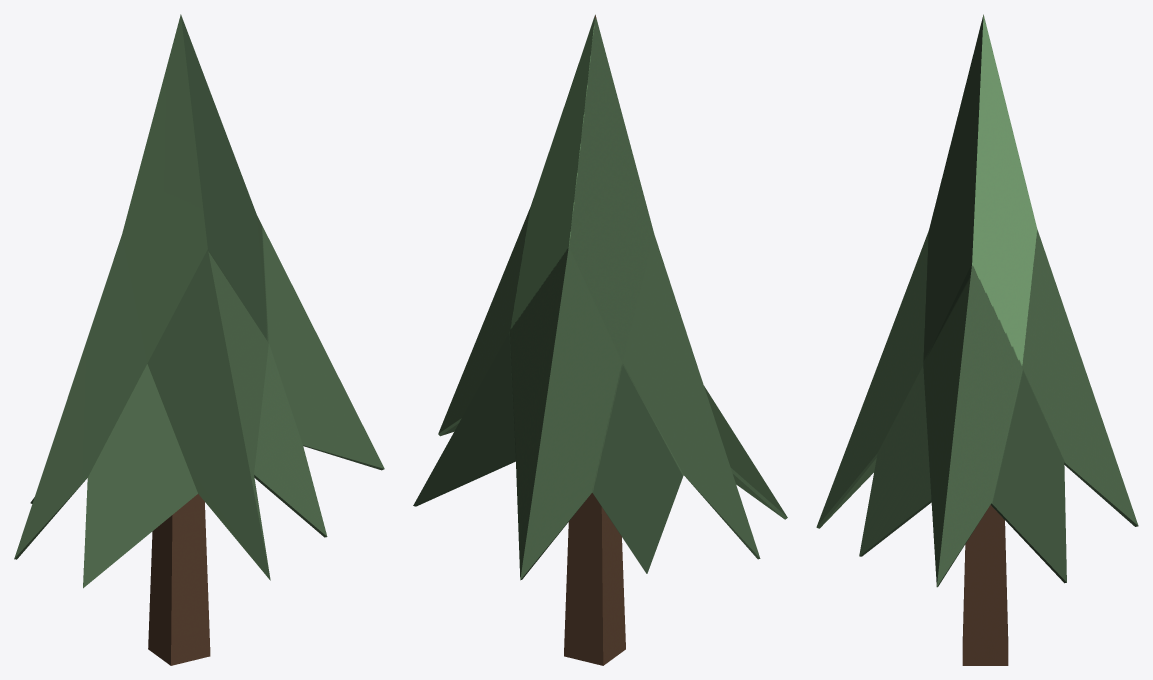
Rendered from treeModel.fbx.
The picture shows the model from 3 angles, left to right: view 1: azimuth 30°, elevation 25°; view 2: azimuth 150°, elevation 25°; view 3: azimuth 270°, elevation 25°; orthographic projection.
Parts seen in each view (by area): view 1: leaves, trunk; view 2: leaves, trunk; view 3: leaves, trunk.
Part boxes in pixels (<box>): leaves: <box>14,14,384,588</box>; trunk: <box>148,494,210,665</box>; leaves: <box>413,14,787,580</box>; trunk: <box>564,493,625,665</box>; leaves: <box>816,14,1138,587</box>; trunk: <box>962,505,1008,665</box>.
Size of the model in its own units: 683 by 1202 by 546.
